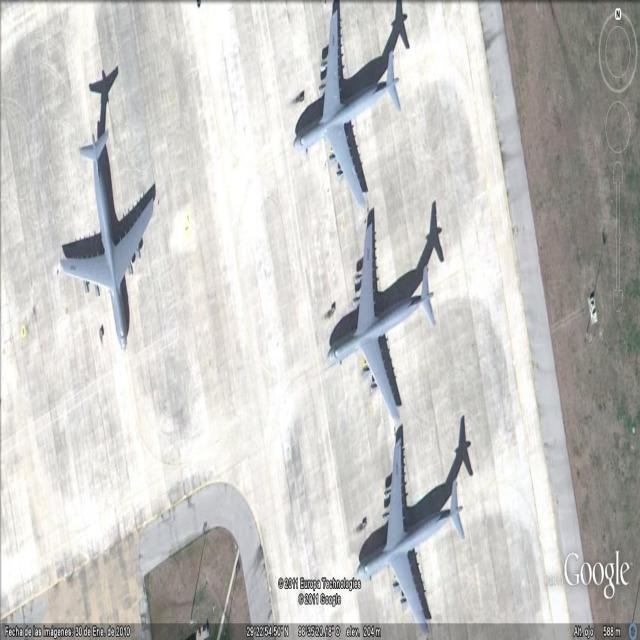MIL_Plane: (292, 8, 401, 210), (326, 223, 436, 421), (60, 130, 153, 351), (355, 0, 465, 185)
